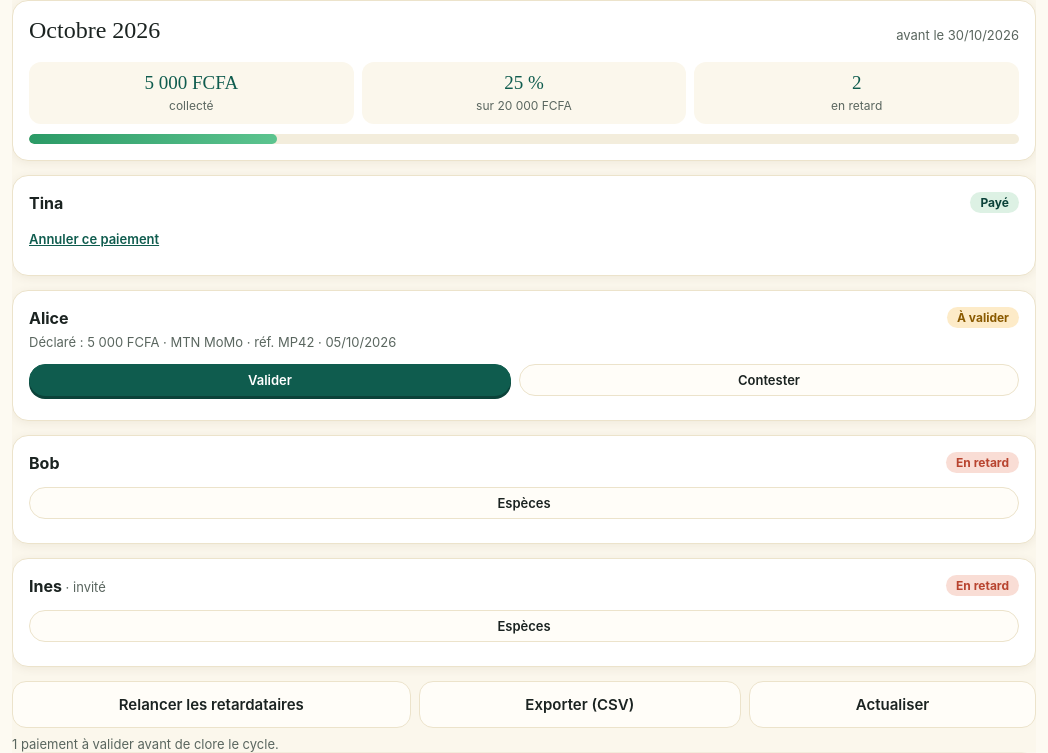
Test case: onglet Cycle › relance : un retardataire par geste, puis plus personne
Step 1. Click the button "Relancer les retardataires" → x=211, y=704, box [12,681,411,728]
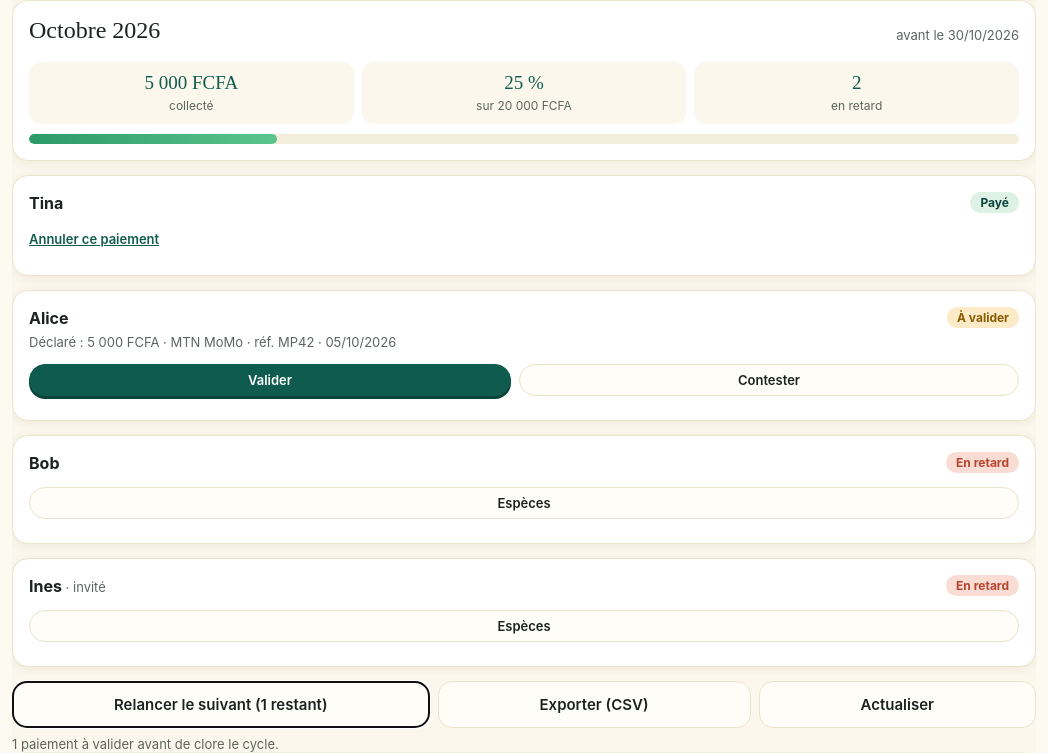
Expected: the button "Relancer le suivant (1 restant)" is shown
Step 2. Click the button "Relancer le suivant (1 restant)" → x=221, y=704, box [12,681,430,728]
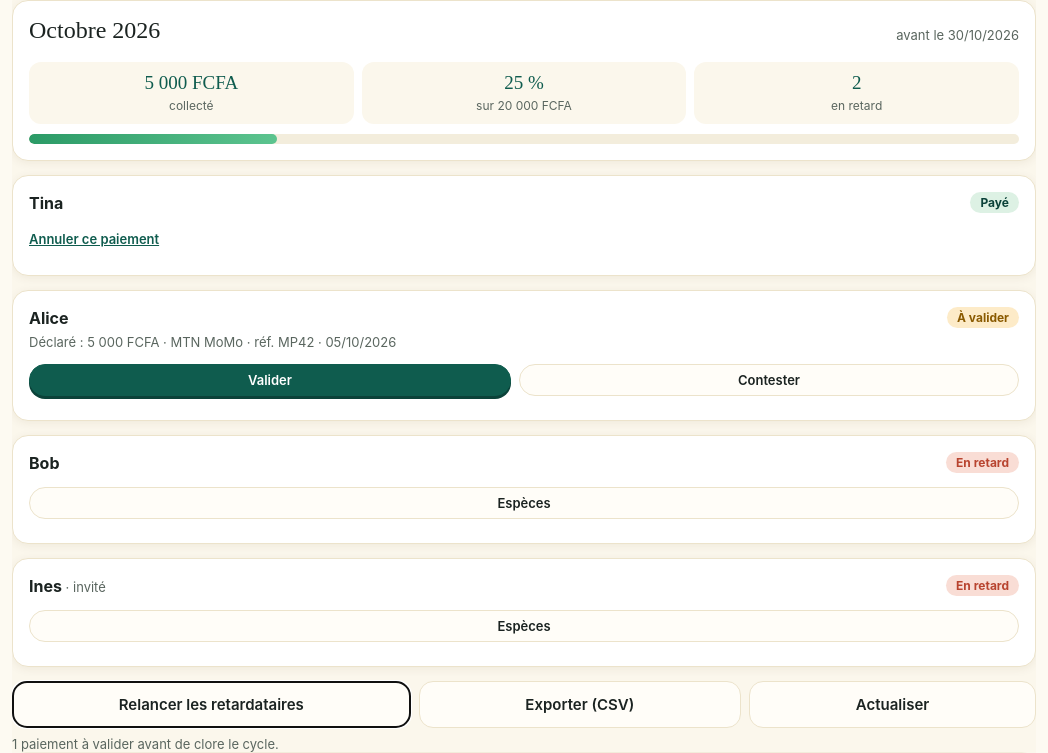
Expected: the button "Relancer les retardataires" is shown, [12,681,411,728]
